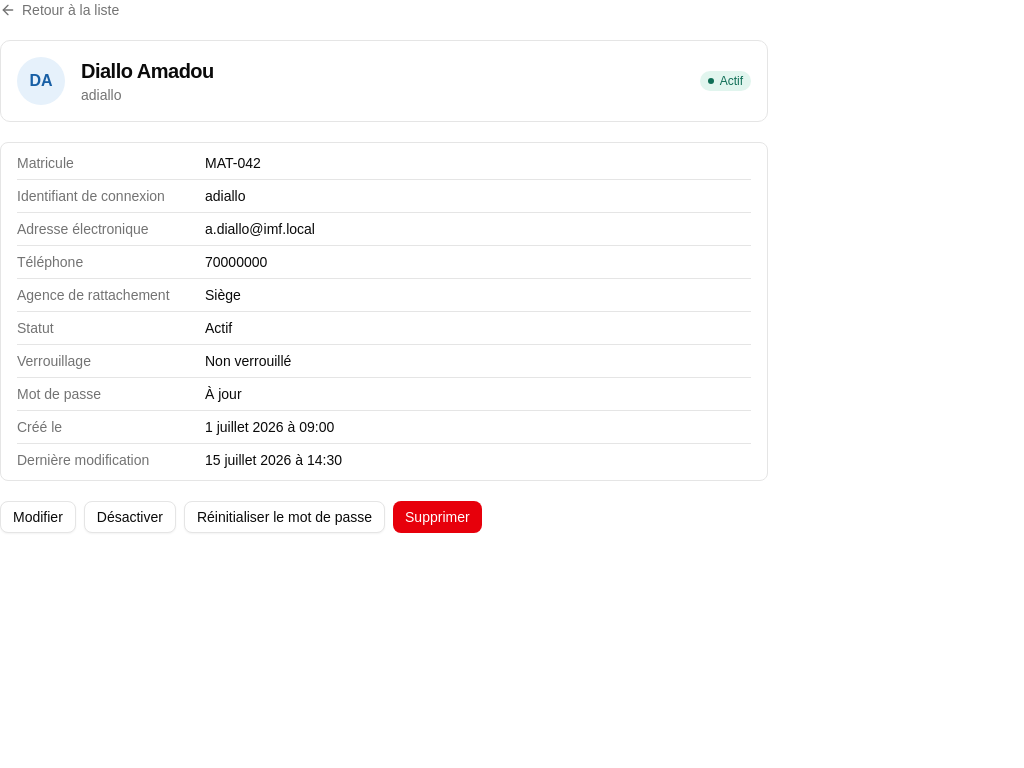
PageFicheUtilisateur › désactiver demande confirmation en prévenant de la déconnexion
Check: the text "MAT-042" is shown, box left=205, top=155, right=261, bottom=171
Click the button "Désactiver" at (130, 517), box left=84, top=501, right=176, bottom=533
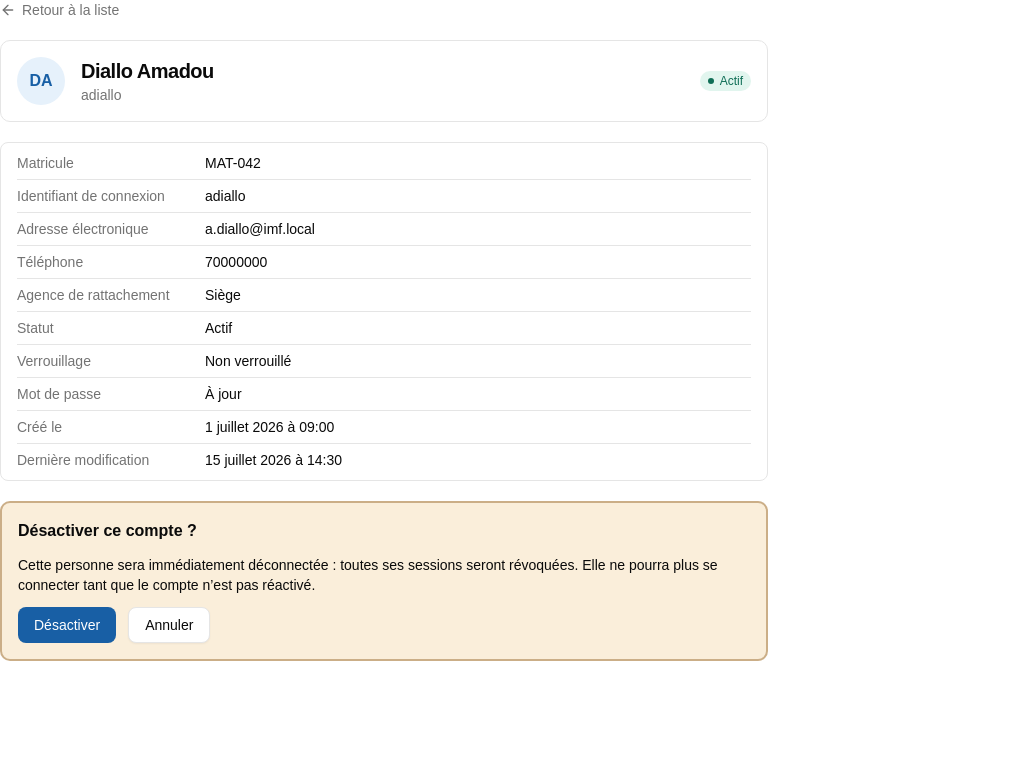
Check: the text "immédiatement déconnectée" is shown, box left=18, top=557, right=718, bottom=593
